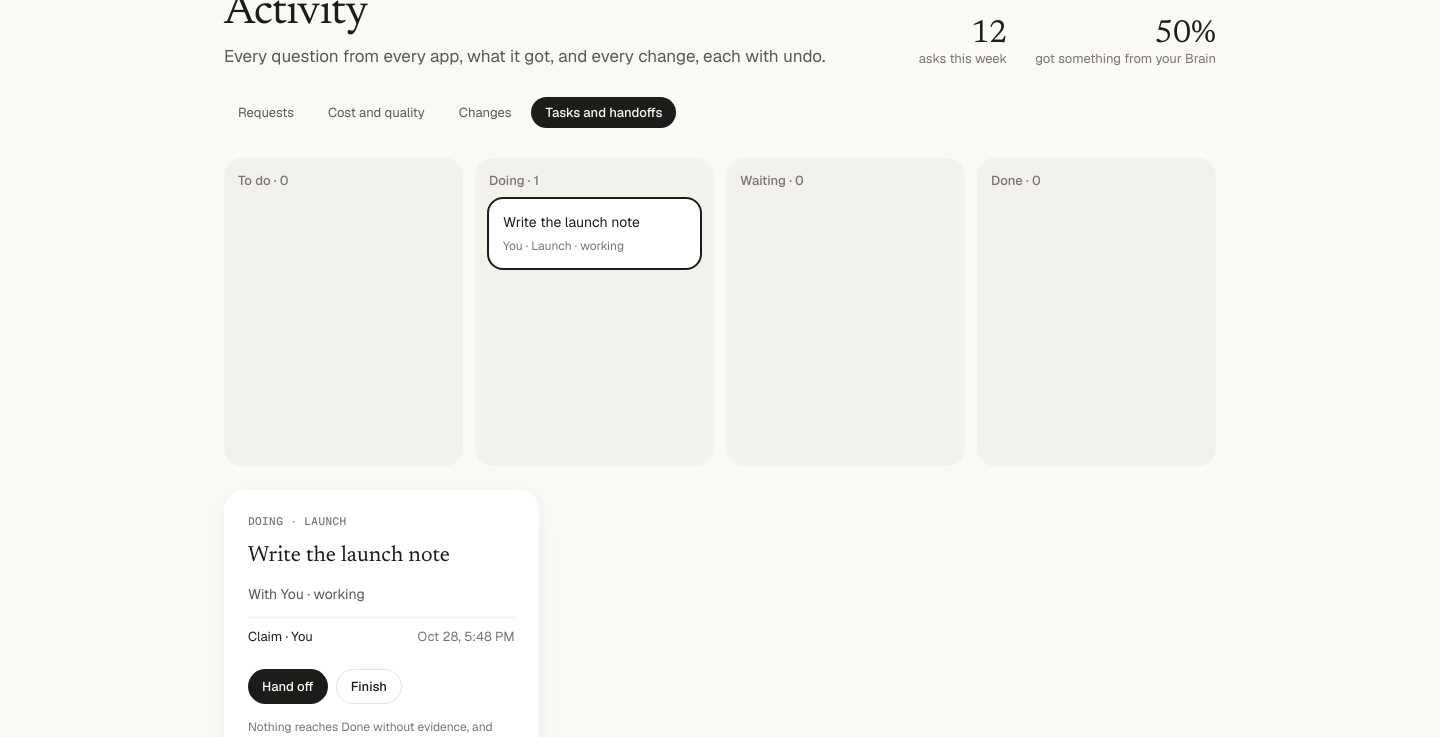
Test: Activity › shows the tasks by lane and finishes one with evidence
Expected: the text "Write the launch note" below "To do" is shown, [503,213,640,231]
Expected: the text "Claim · You" is shown, [248,628,313,645]
Click the button "Finish" at {"x": 369, "y": 686}, box [336,669,402,704]
(page scrolled)
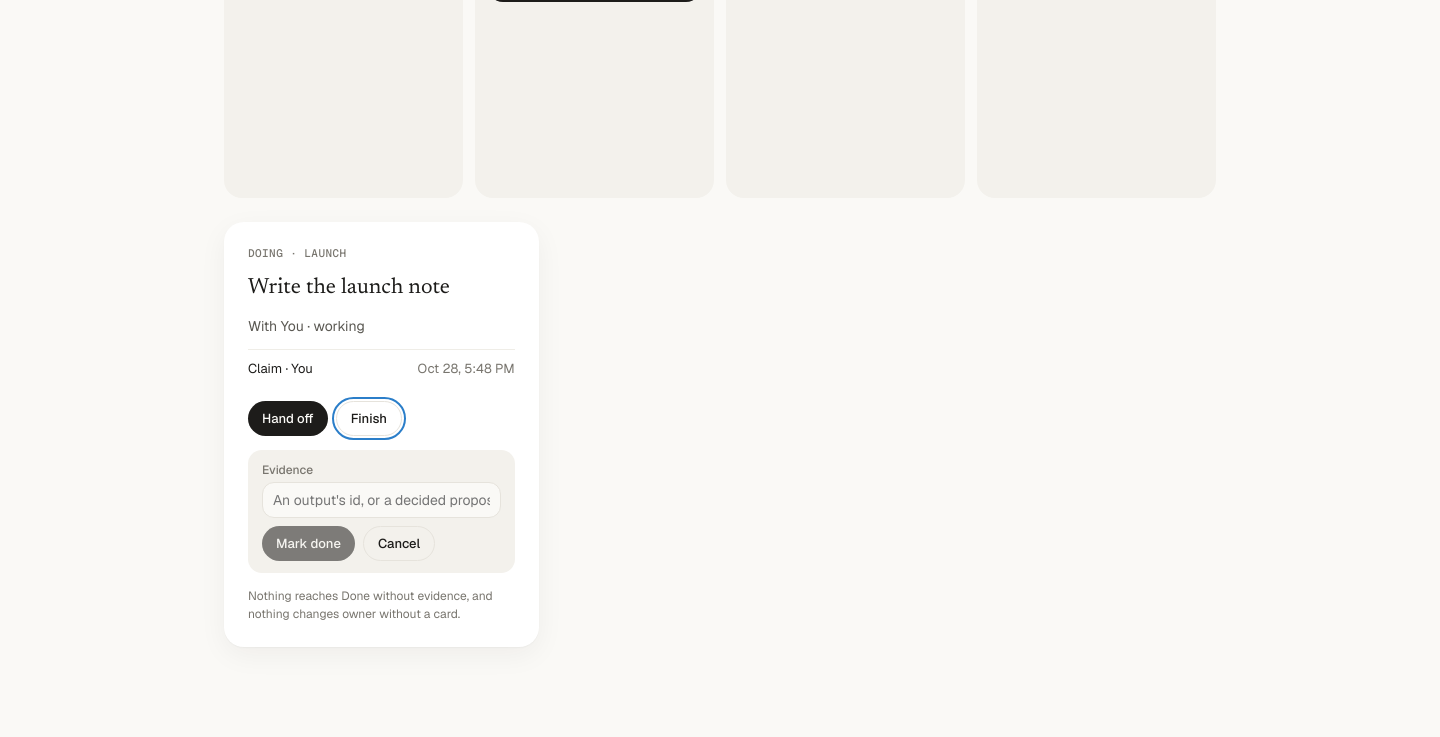
Type "out_9" into the field labelled "Evidence" at {"x": 381, "y": 500}, box [262,482,501,518]
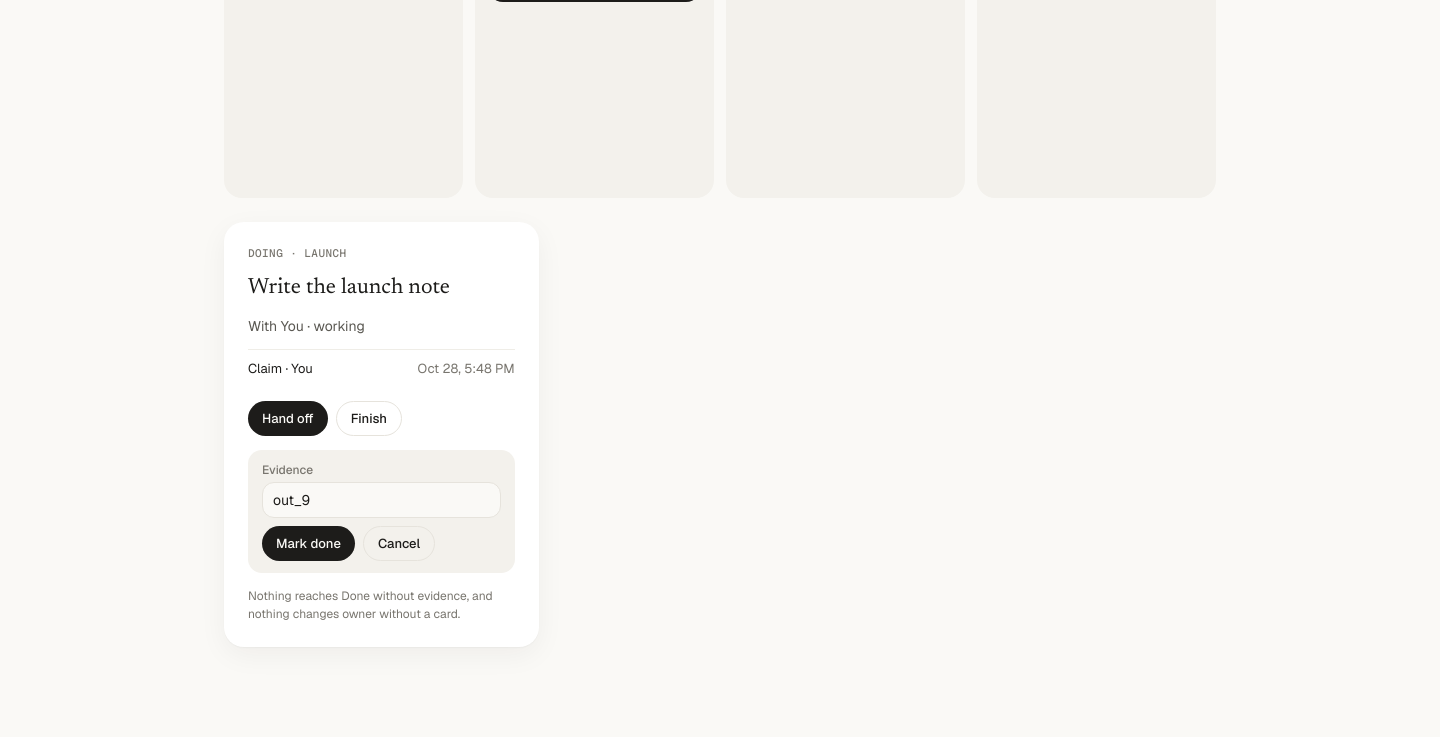
Click the button "Mark done" at {"x": 308, "y": 544}, box [262,526,355,561]
(page scrolled)
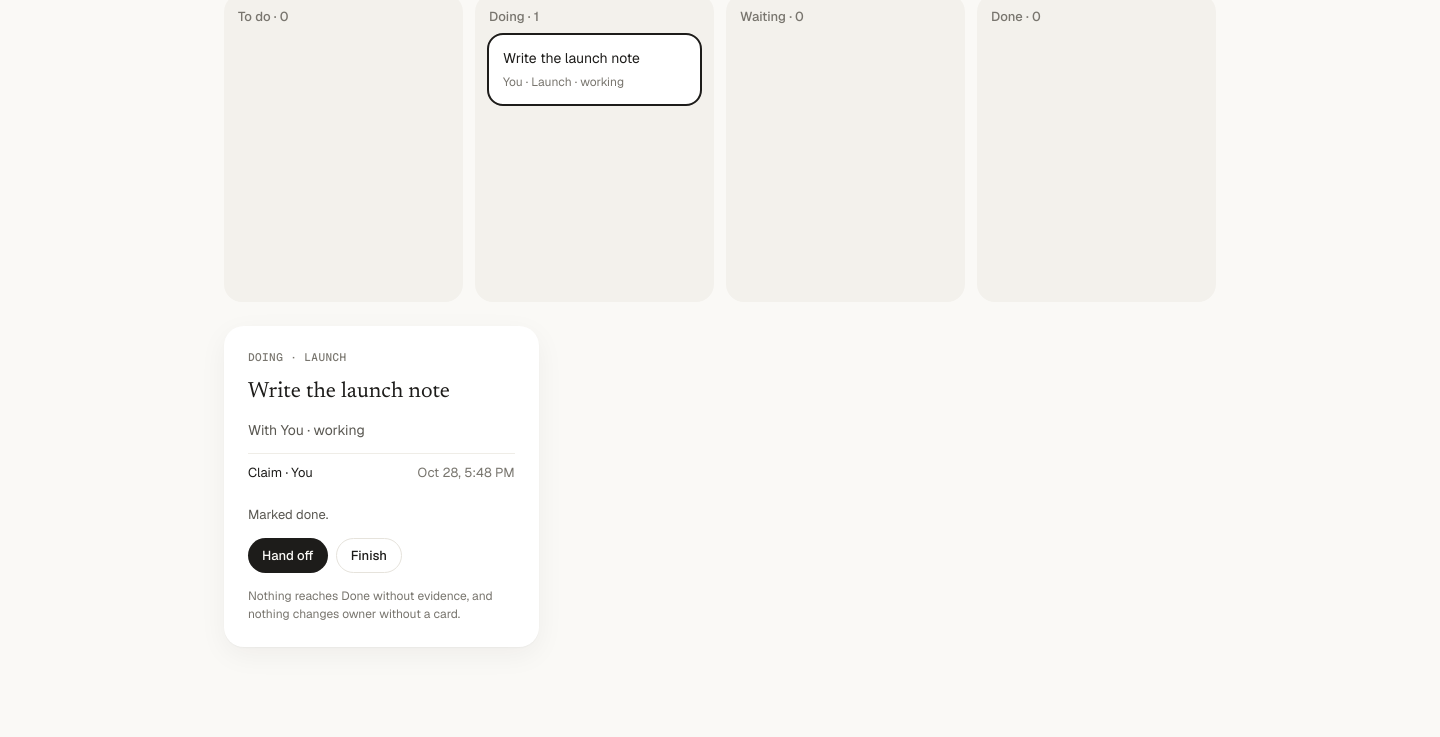
Expected: the text "Marked done." is shown, [248,506,328,523]
